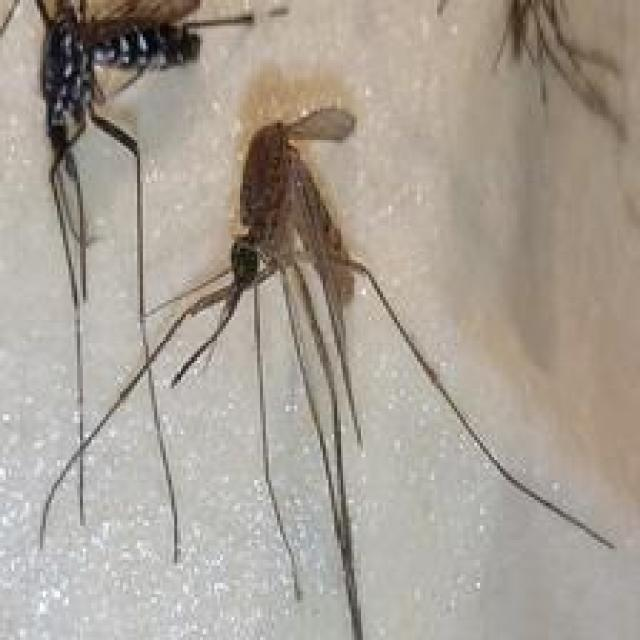Culex: (37, 103, 617, 640)
